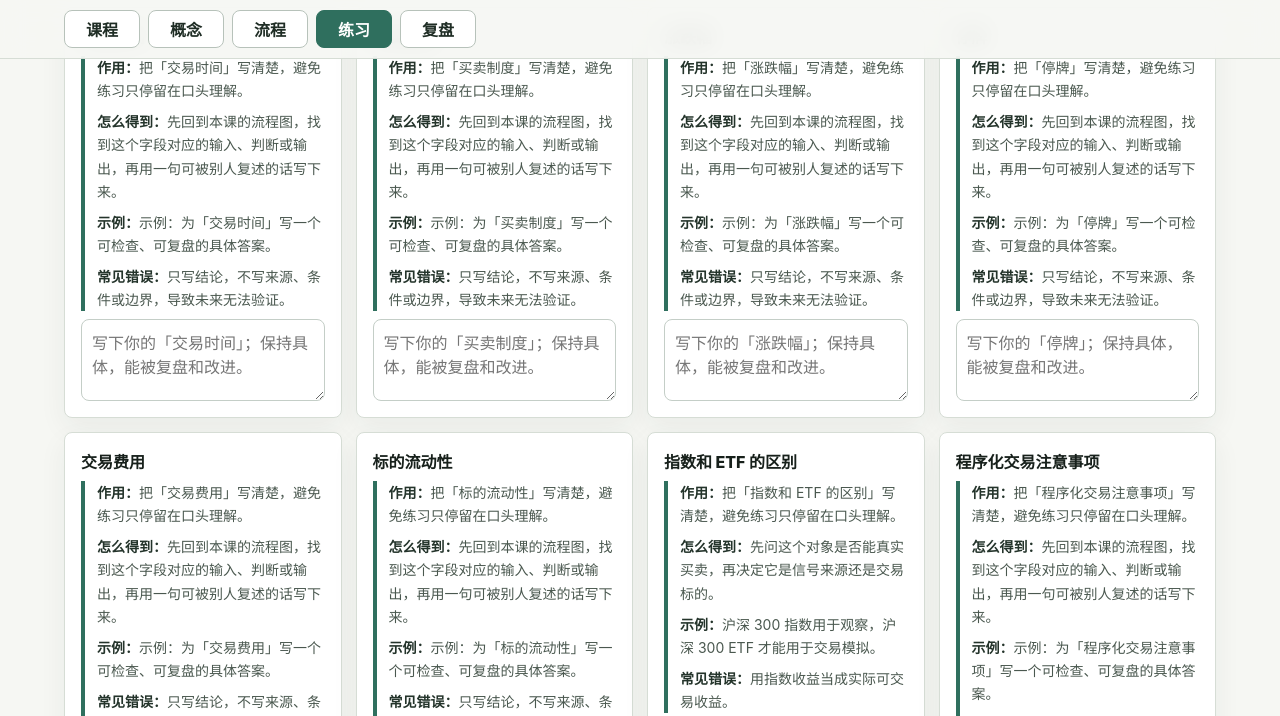
interactive lessons › turns practice pages into saved interactive workbenches
The image size is (1280, 716).
(page scrolled)
Type "用交易日历对齐收盘价和成交额。" into the 1st text box.
click(203, 360); type("用交易日历对齐收盘价和成交额。")  # box [81, 319, 324, 401]
(page scrolled)
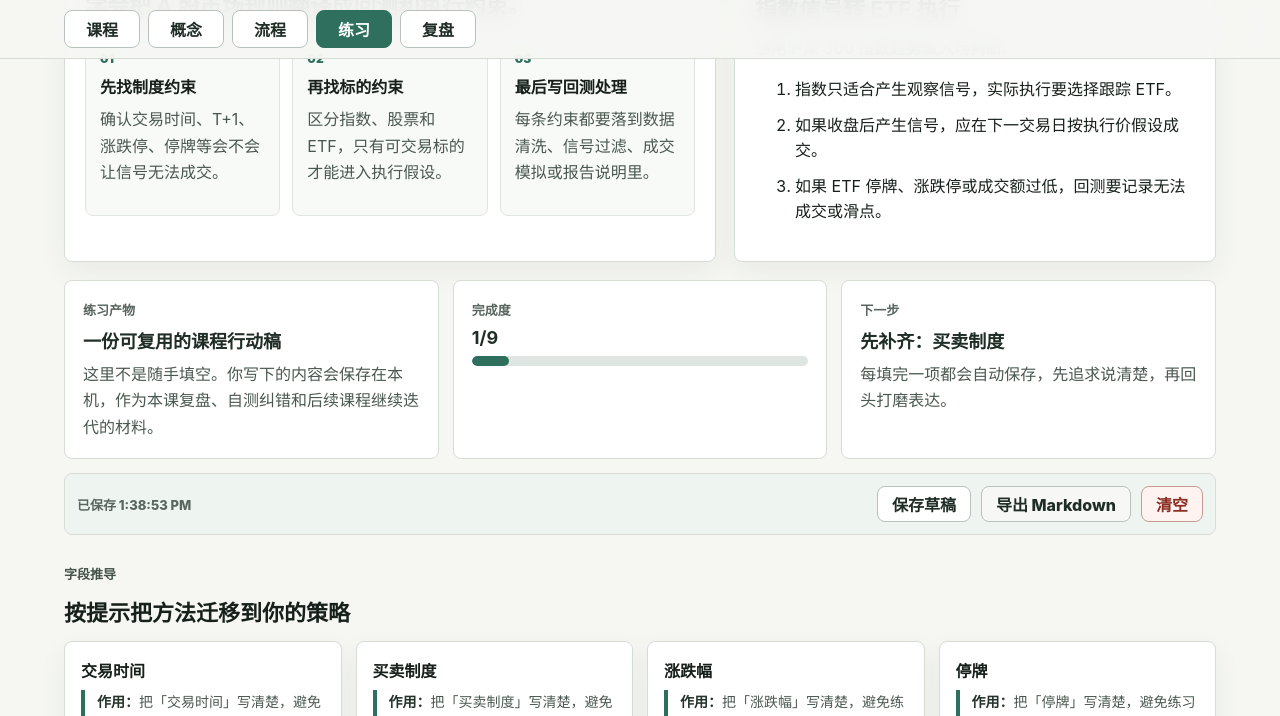
Check: the element named "练习完成度 11%" is shown, box [472, 356, 808, 366]
